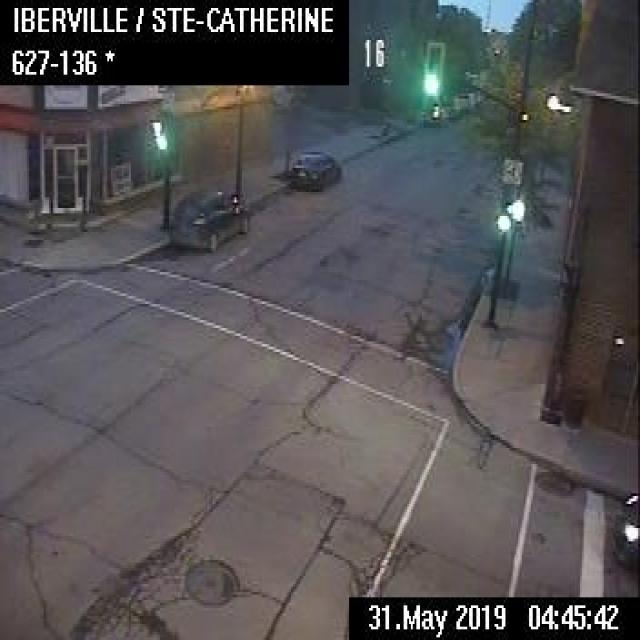vehicle: (169, 187, 247, 250), (609, 488, 638, 573), (289, 147, 340, 189), (424, 102, 447, 125), (453, 90, 469, 106)
